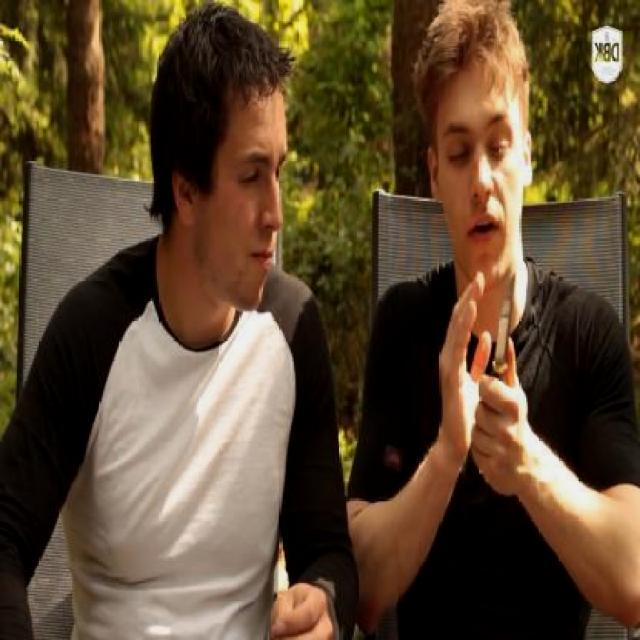knife: (470, 254, 536, 458)
